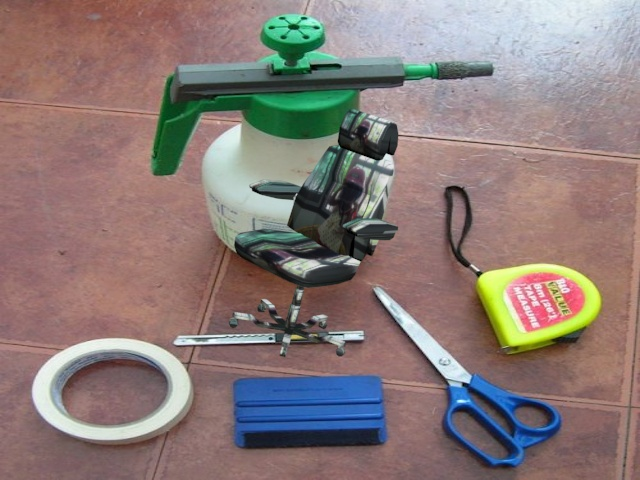desk_chair: (224, 97, 400, 368)
